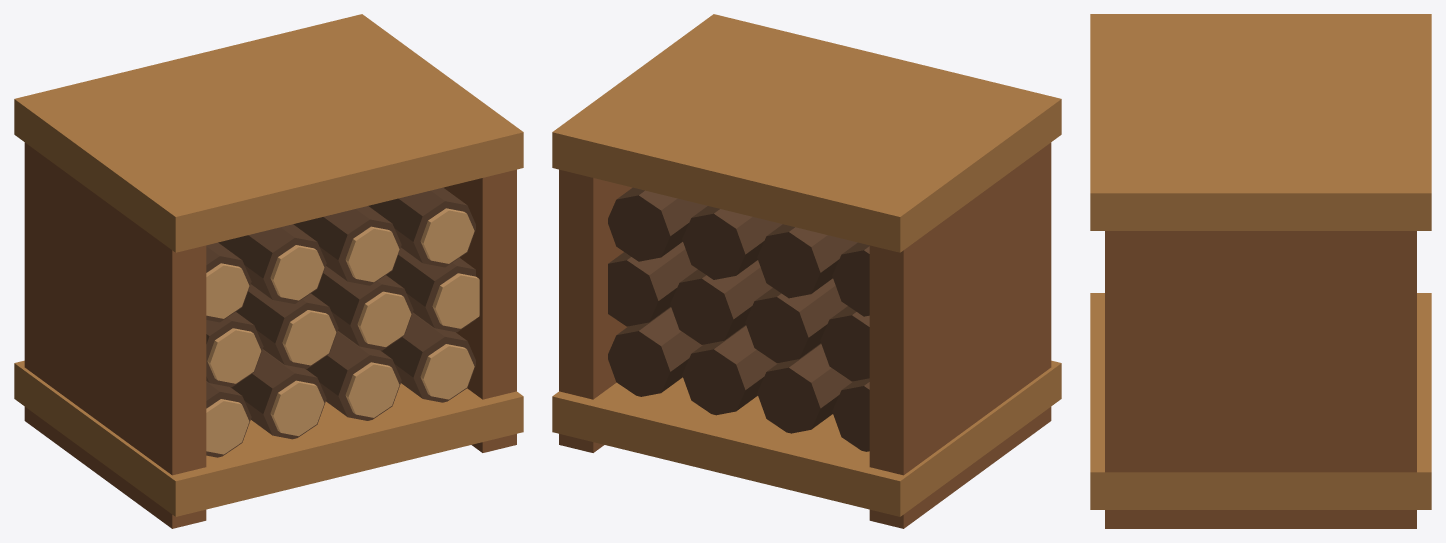
File: reused_firewood_rack.glb
The picture shows the model from 3 angles, left to right: view 1: azimuth 30°, elevation 25°; view 2: azimuth 150°, elevation 25°; view 3: azimuth 270°, elevation 25°; orthographic projection. The views are drawn at different scales.
Visible parts, largest first — view 1: reused_firewood_rack_Farm_wood2.002, reused_firewood_rack_Farm_wood.003, reused_firewood_rack_Farm_wood_dark.001, reused_firewood_rack_Farm_endgrain; view 2: reused_firewood_rack_Farm_wood2.002, reused_firewood_rack_Farm_wood.003, reused_firewood_rack_Farm_wood_dark.001; view 3: reused_firewood_rack_Farm_wood2.002, reused_firewood_rack_Farm_wood.003.
Boxes of the visible parts, x1,y1,x2,y2 form: reused_firewood_rack_Farm_wood2.002: [14, 14, 523, 516]; reused_firewood_rack_Farm_wood.003: [24, 142, 516, 528]; reused_firewood_rack_Farm_wood_dark.001: [206, 187, 475, 457]; reused_firewood_rack_Farm_endgrain: [206, 208, 479, 454]; reused_firewood_rack_Farm_wood2.002: [552, 14, 1061, 516]; reused_firewood_rack_Farm_wood.003: [559, 142, 1051, 528]; reused_firewood_rack_Farm_wood_dark.001: [608, 187, 869, 451]; reused_firewood_rack_Farm_wood2.002: [1090, 14, 1431, 509]; reused_firewood_rack_Farm_wood.003: [1105, 231, 1416, 528].
Bounding box in the file's own units: 1.02 × 0.89 × 0.82.
